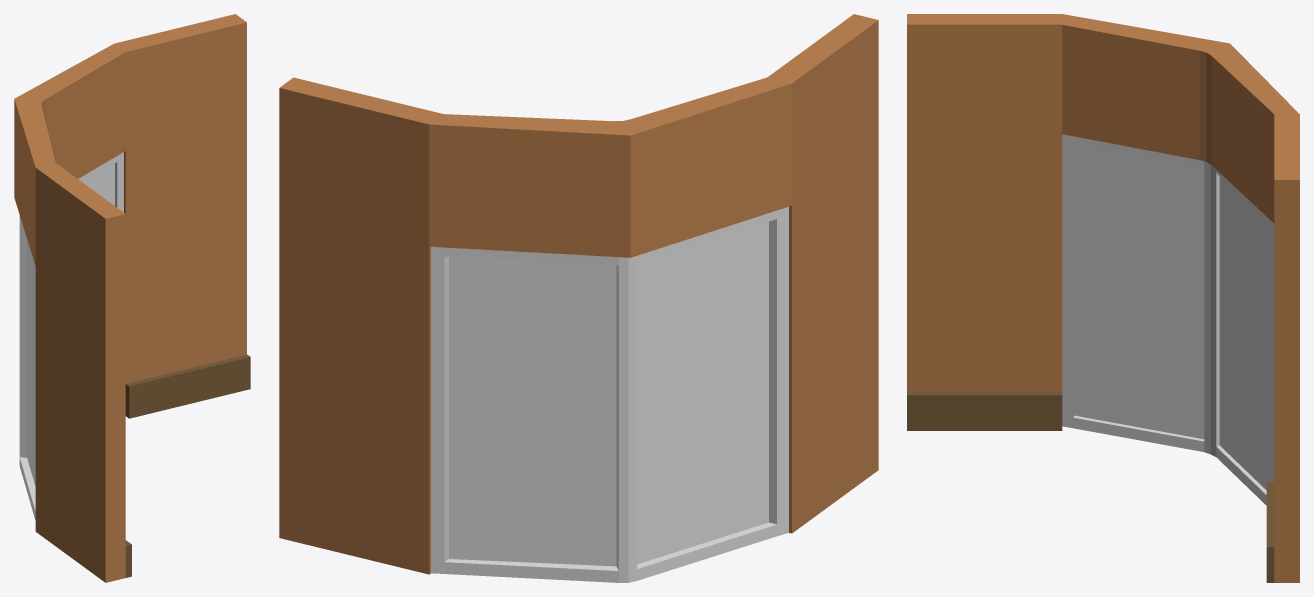
Rendered from C_Wall_Entrance.fbx.
3 renders of one model, left to right at view 1: azimuth 30°, elevation 25°; view 2: azimuth 150°, elevation 25°; view 3: azimuth 270°, elevation 25°, orthographic. The views are drawn at different scales.
Parts seen in each view (by area): view 1: C_Wall_Entrance; view 2: C_Wall_Entrance; view 3: C_Wall_Entrance.
Part boxes in pixels (x1,y1,x2,y2): C_Wall_Entrance: [14, 14, 250, 582]; C_Wall_Entrance: [279, 14, 878, 582]; C_Wall_Entrance: [907, 14, 1299, 582].
Bounding box in the file's own units: 2000 × 2000 × 2264.
